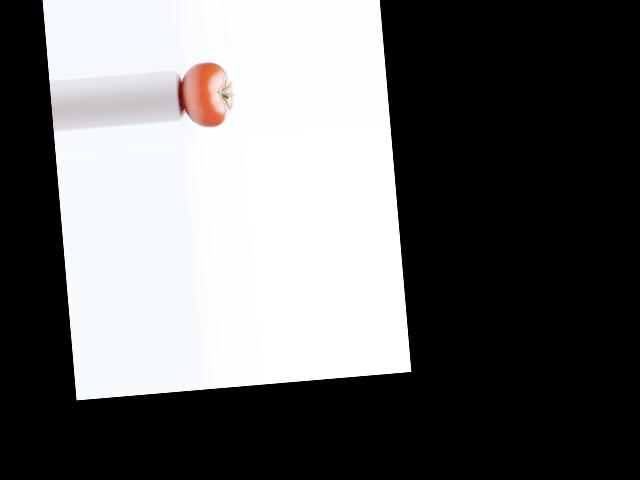tomato: (179, 60, 235, 129)
